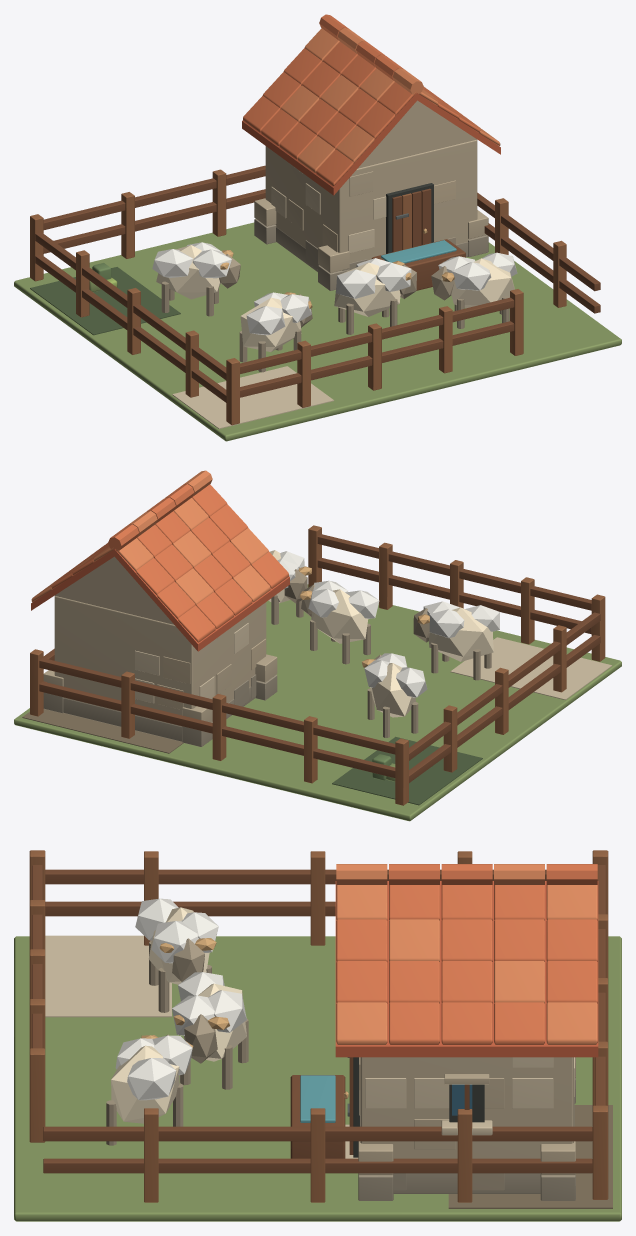
File: sheep.glb
3 views of the same model, one above another, from view 1: azimuth 30°, elevation 25°; view 2: azimuth 150°, elevation 25°; view 3: azimuth 270°, elevation 25° (orthographic). The views are drawn at different scales.
Parts seen in each view (by area): view 1: sheep; view 2: sheep; view 3: sheep.
Part boxes in pixels (x1,y1,x2,y2): sheep: [14, 14, 621, 441]; sheep: [14, 470, 621, 821]; sheep: [14, 850, 621, 1221].
Bounding box in the file's own units: 3.35 × 1.65 × 3.1.
